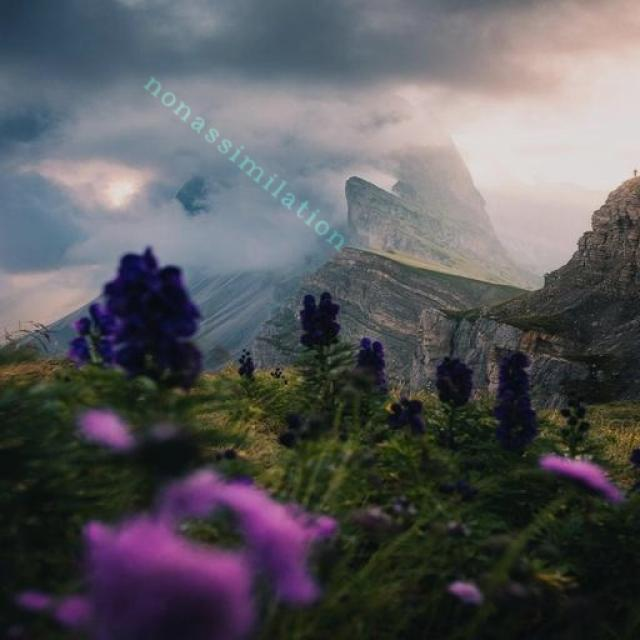watermark: (134, 65, 358, 256)
